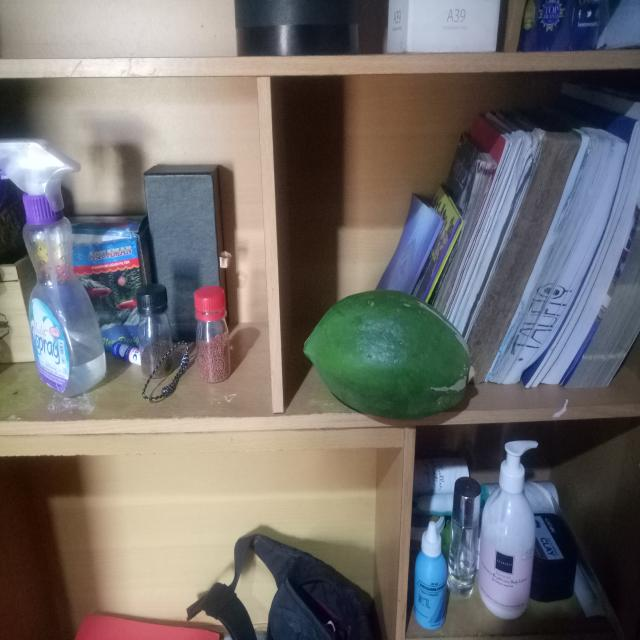Pepaya unrippen: (284, 296, 488, 433)
